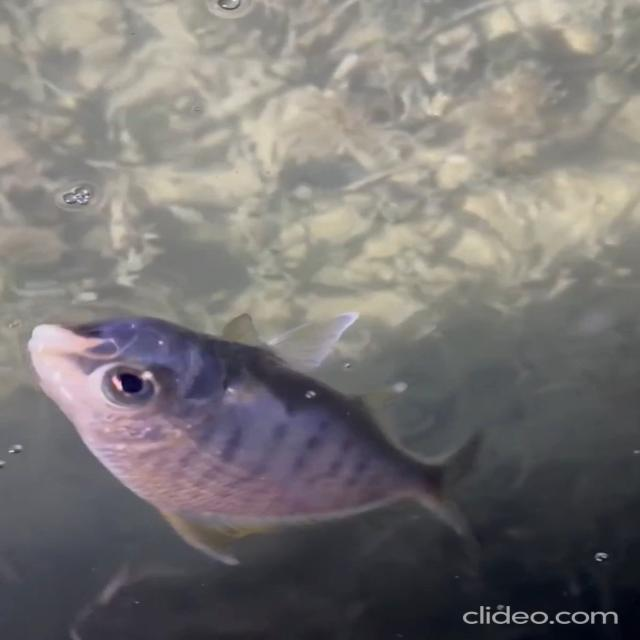fish: (18, 259, 501, 576)
